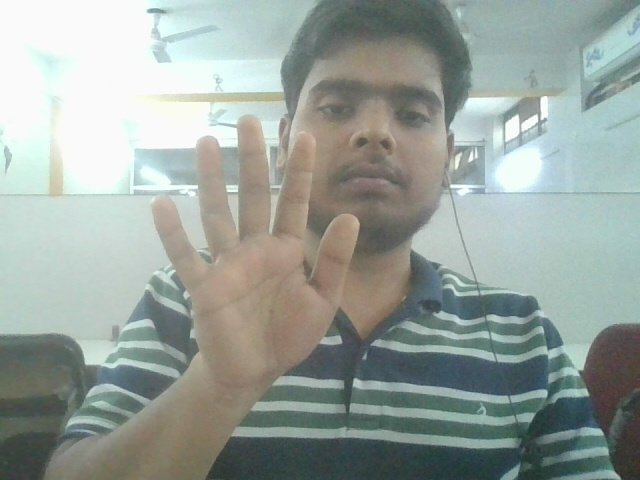Hello: (146, 105, 365, 404)
